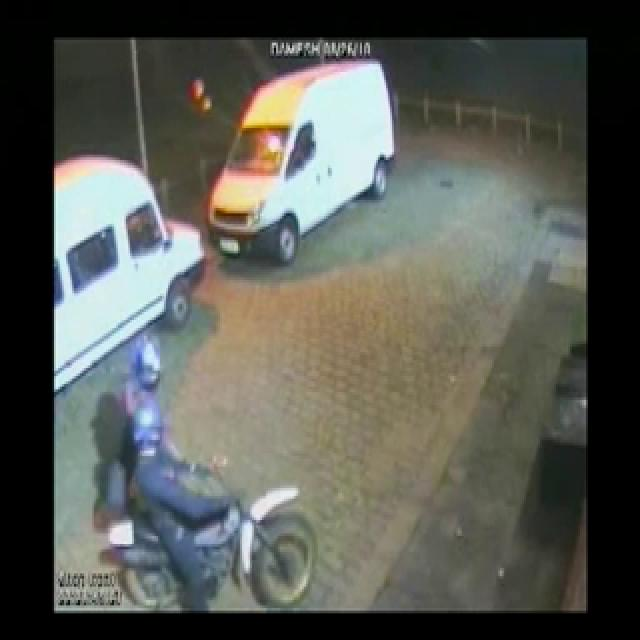arson: (73, 25, 406, 640)
